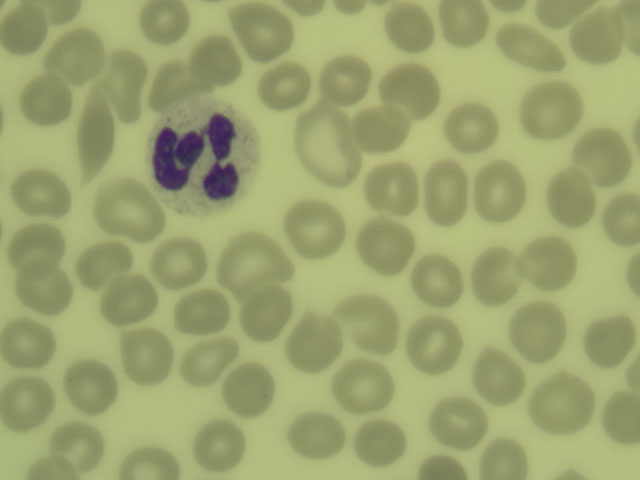RBC: (293, 111, 357, 183), (528, 370, 594, 438), (213, 233, 292, 287), (471, 344, 527, 410), (404, 318, 465, 377), (519, 82, 584, 137), (443, 97, 503, 156), (230, 7, 297, 59), (288, 199, 346, 259), (346, 295, 403, 355), (519, 233, 581, 288), (97, 183, 159, 237), (513, 301, 567, 363), (120, 326, 174, 386), (335, 360, 396, 413), (429, 394, 491, 445), (499, 25, 565, 72), (577, 127, 630, 184), (478, 160, 525, 223), (546, 168, 596, 227), (585, 312, 638, 367), (470, 246, 521, 303), (425, 162, 469, 228), (362, 166, 422, 214), (220, 362, 277, 412), (180, 335, 240, 382), (9, 172, 70, 218), (79, 96, 112, 181), (13, 260, 69, 310), (65, 359, 115, 415), (106, 51, 147, 119), (412, 252, 462, 307), (288, 411, 344, 460), (360, 218, 412, 270), (194, 418, 245, 470), (1, 317, 54, 367), (573, 18, 627, 67), (290, 312, 338, 367), (8, 224, 67, 267), (152, 64, 208, 109), (384, 2, 434, 52), (1, 378, 49, 430), (383, 67, 438, 112), (322, 56, 373, 104), (241, 290, 293, 337), (359, 107, 411, 154), (354, 422, 411, 464), (600, 188, 640, 247), (139, 2, 190, 48), (194, 34, 240, 83), (101, 281, 157, 321), (3, 5, 44, 59), (53, 32, 101, 78), (24, 78, 70, 126), (157, 240, 204, 286), (259, 60, 306, 106), (441, 1, 486, 48), (80, 245, 135, 283), (181, 291, 229, 332), (125, 445, 181, 480), (55, 422, 103, 462), (603, 394, 640, 443), (481, 441, 528, 478), (416, 453, 467, 479), (535, 2, 594, 19), (28, 460, 75, 480), (51, 2, 84, 20), (492, 1, 524, 16), (287, 2, 323, 13), (338, 2, 365, 15)
WBC: (158, 110, 257, 200)
